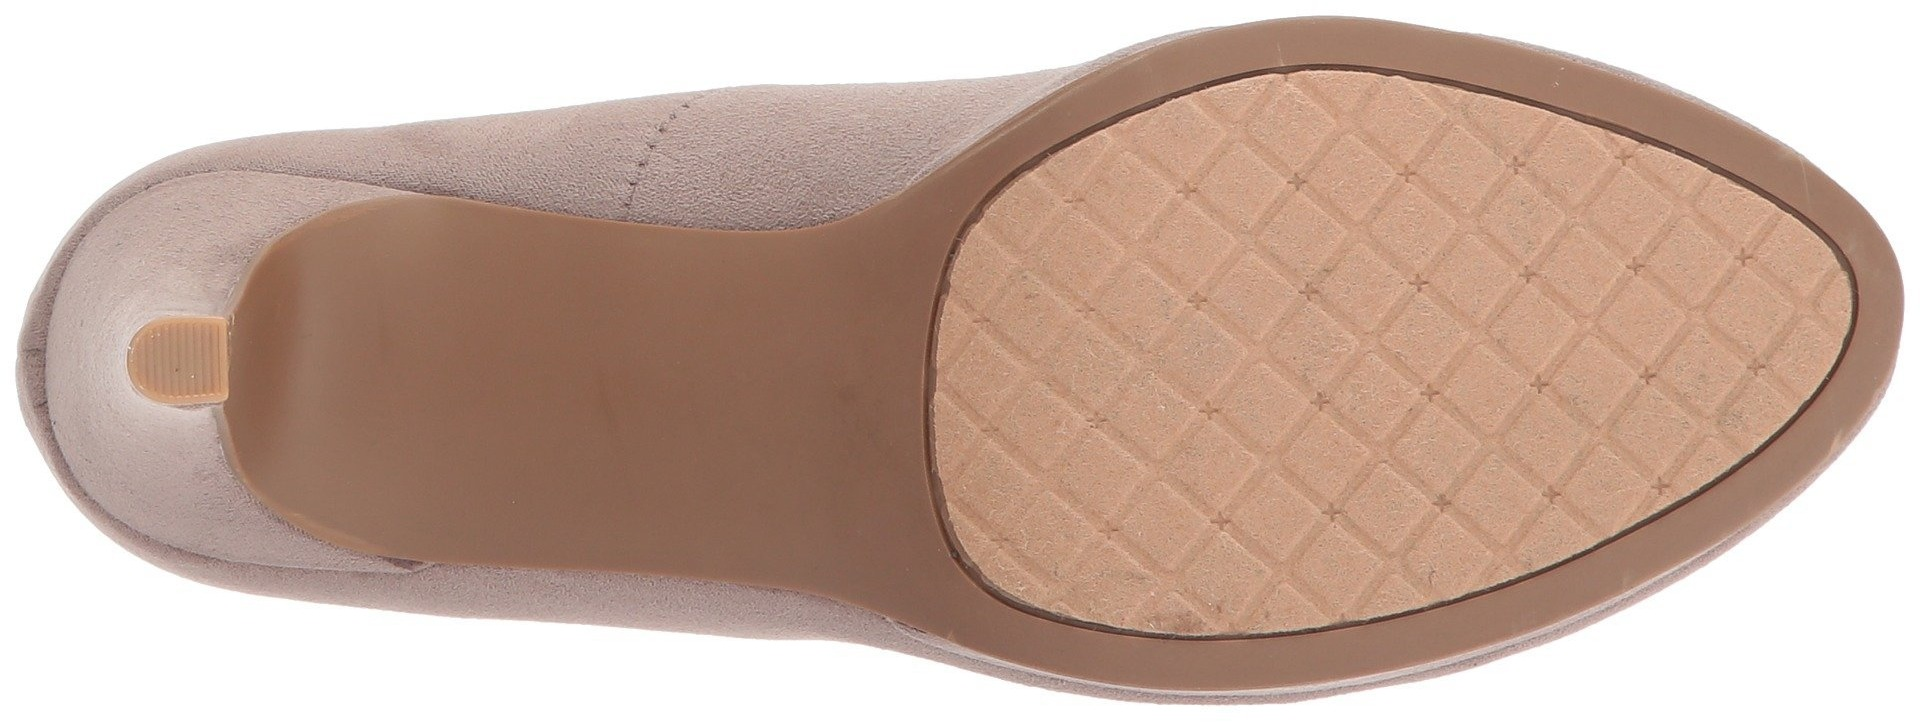exclude: (6, 51, 1024, 721)
other: (149, 326, 217, 388)
quad: (977, 226, 1333, 594), (1340, 151, 1691, 498), (1180, 92, 1322, 219), (1718, 233, 1845, 367)
